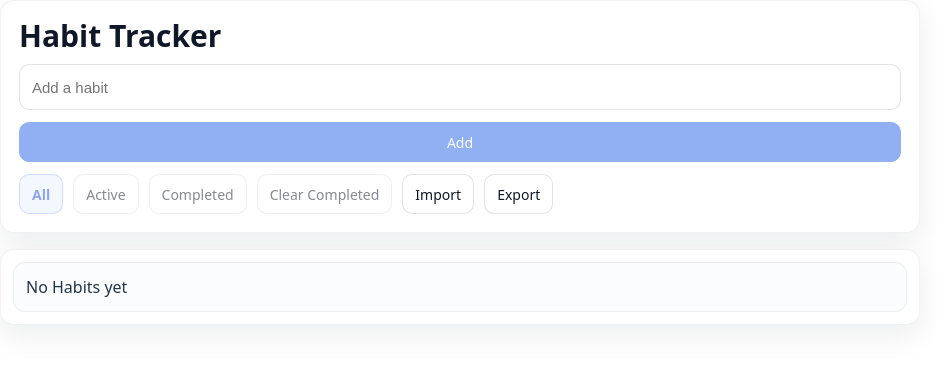
Scenario: add/Update › if habit is not completed then the input box allows edit
Type "test input box editing" into the field named "new habit". click: coordinates (460, 87)
box: [19,64,901,110]
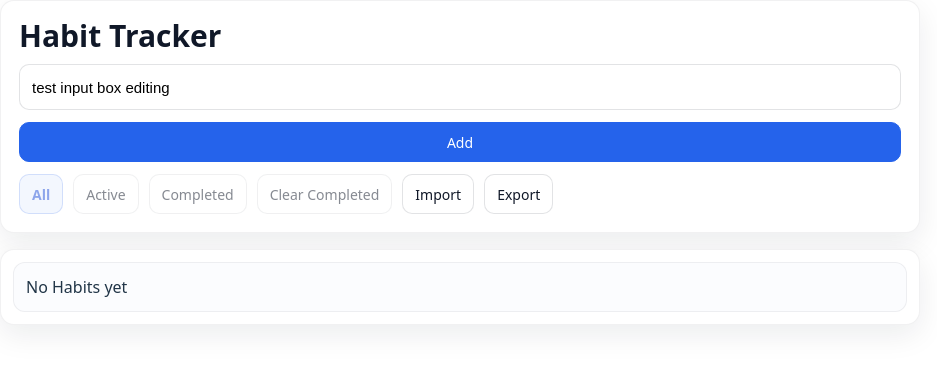
Click the button "Add". click: coordinates (460, 142)
box: [19,122,901,162]
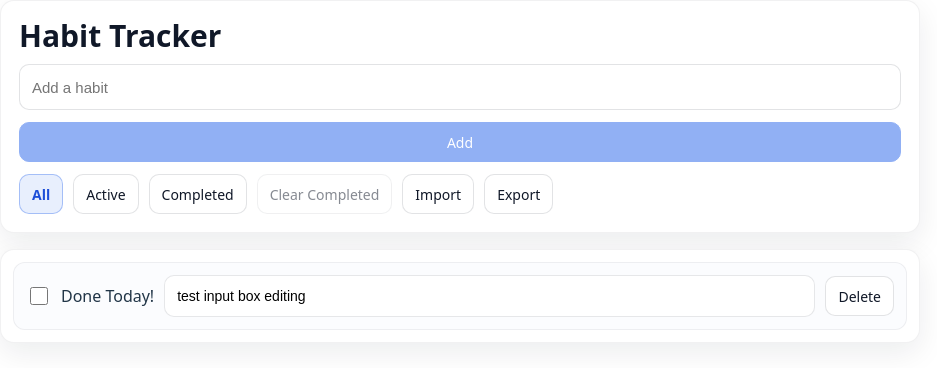
Now the field showing "test input box editing" is enabled, box [164,275,816,317]
Click the checkbox named "Mark test input box editing done". click: coordinates (39, 296)
box: [30,287,48,305]
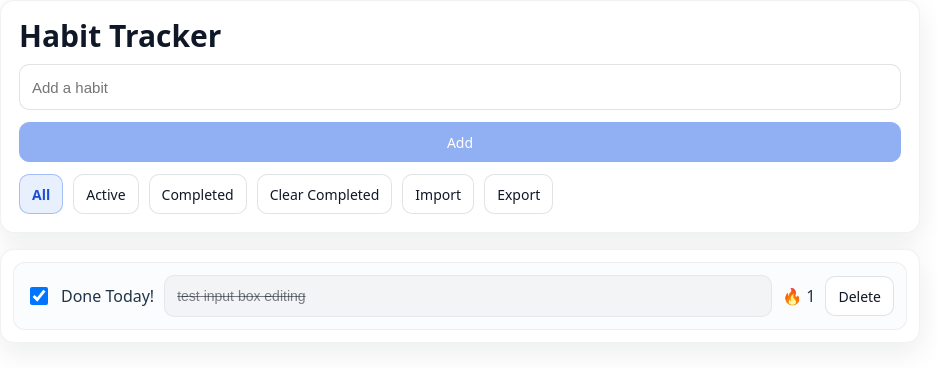
Now the field showing "test input box editing" is disabled, box [164,275,772,317]
Click the checkbox named "Mark test input box editing done". click: coordinates (39, 296)
box: [30,287,48,305]
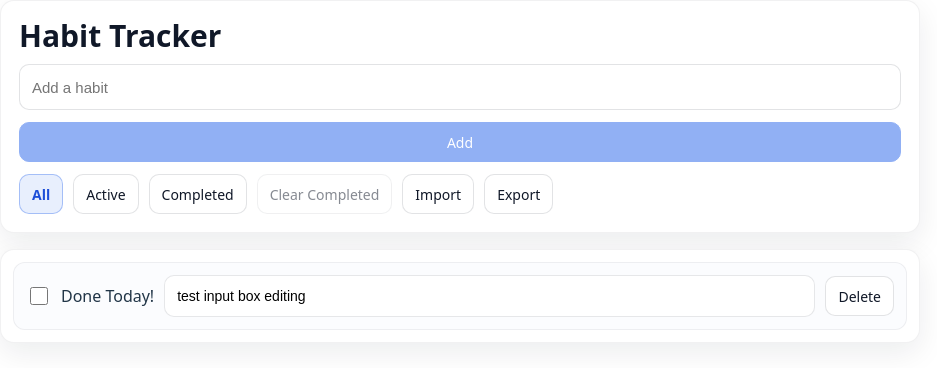
Now the field showing "test input box editing" is enabled, box [164,275,816,317]
